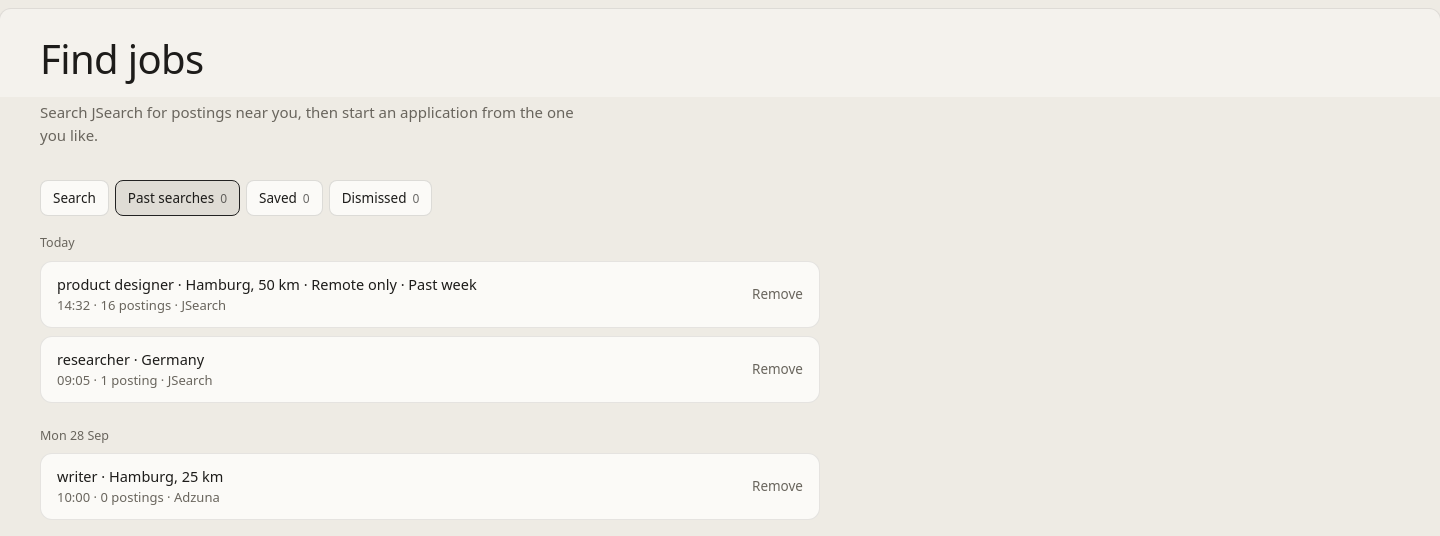
Test: past searches (E14-10) › removes a search
Click the button with aria-label "Remove the search “researcher · Germany” from 09:05".
click(778, 369)  # box [752,354,803,384]
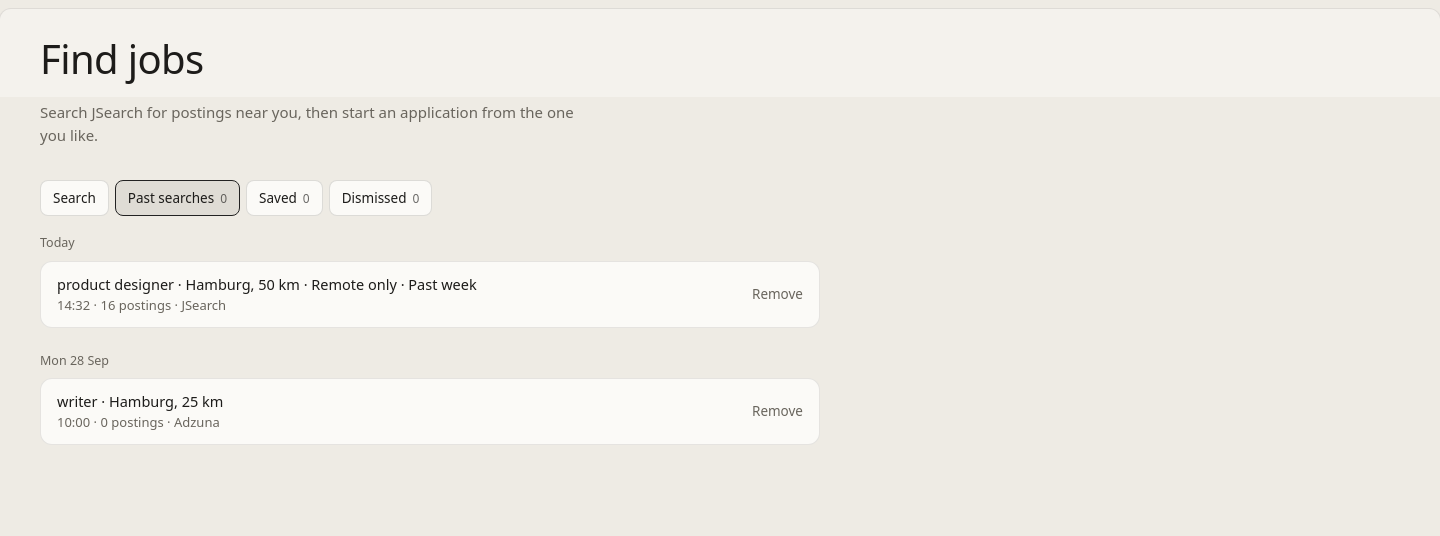
Result: the link "researcher" is gone
